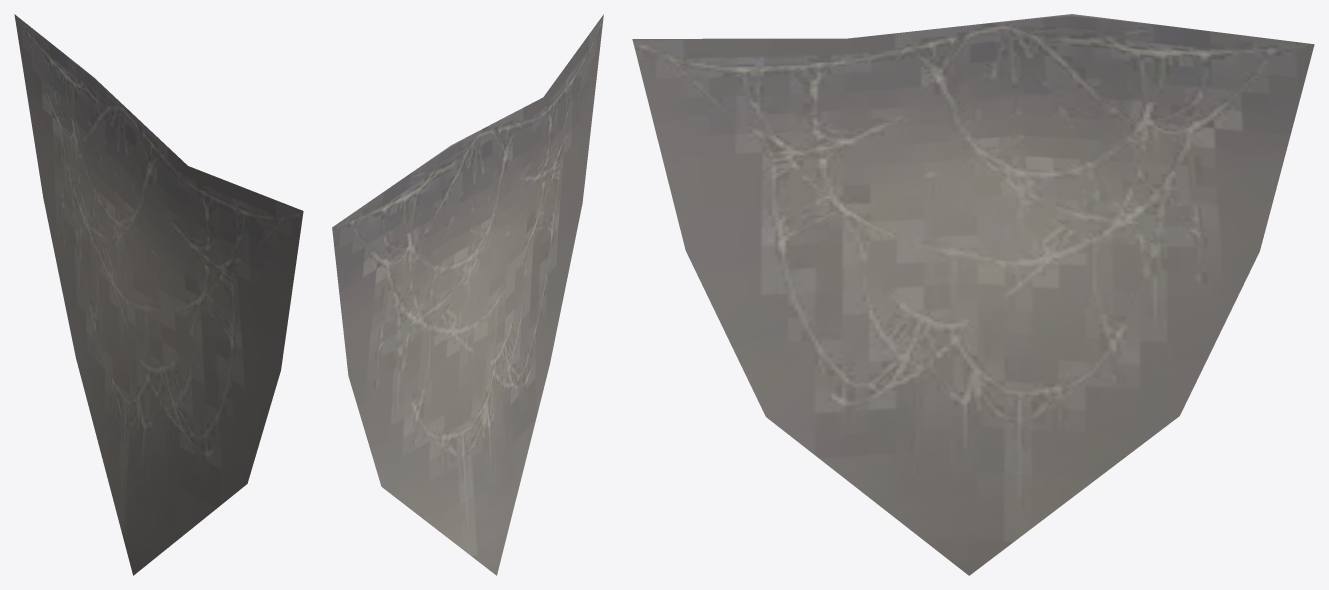
The picture shows the model from 3 angles, left to right: view 1: azimuth 30°, elevation 25°; view 2: azimuth 150°, elevation 25°; view 3: azimuth 270°, elevation 25°; orthographic projection. The views are drawn at different scales.
Bounding box in the file's own units: 0.2838 × 4.08 × 4.47.
Materials: 1 (1 with a texture image).
